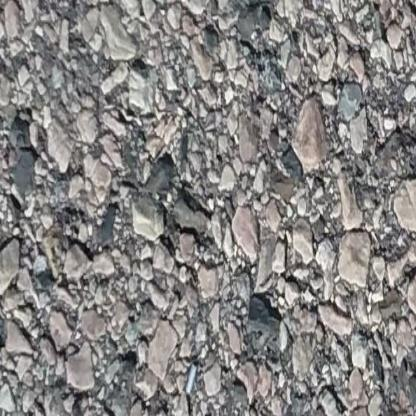Cracks: (378, 126, 416, 220)
